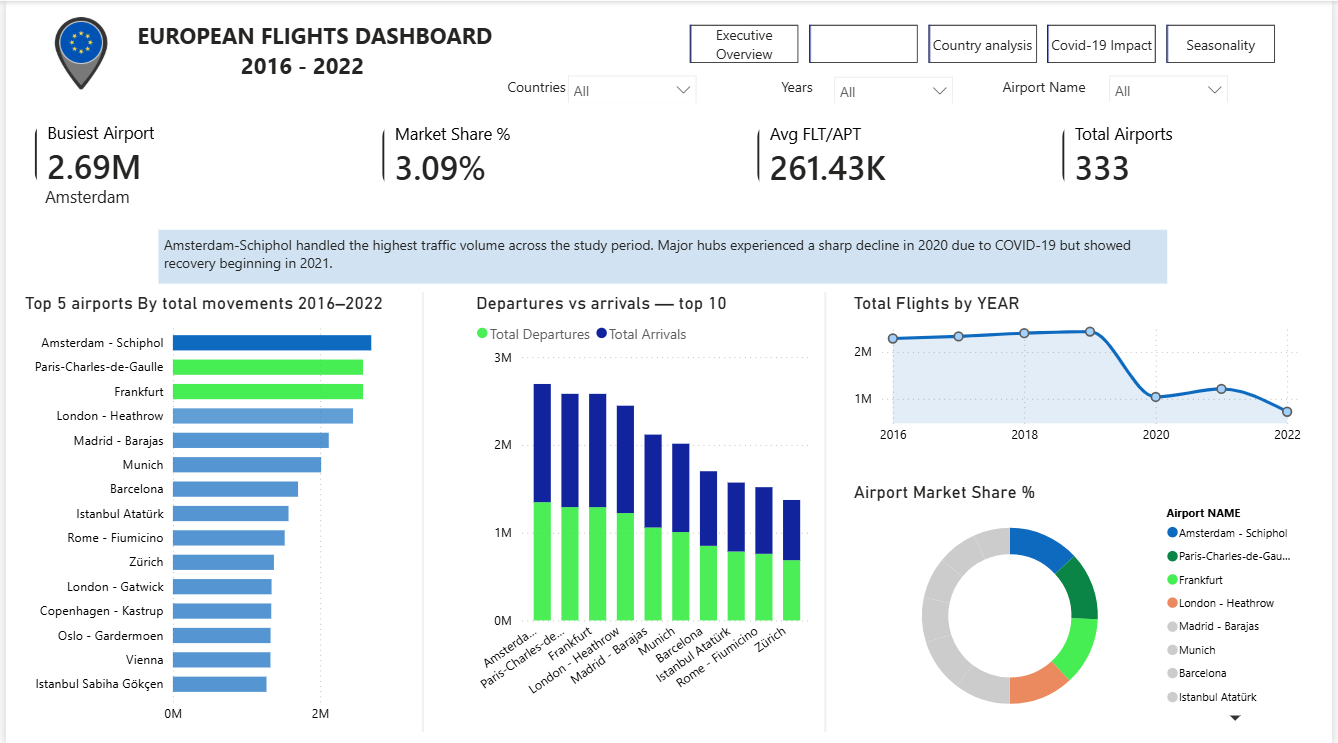

This screenshot's page, from the dashboard's own definition file:
{"tool":"powerbi","page":{"name":"Airport Performance","canvas":[1280,720],"ordinal":1},"visuals":[{"type":"cardVisual","fields":{"Data":["All Measures.Busiest Airport Flights"]},"box":[22.9,108.6,213.5,79.6],"z":0},{"type":"textbox","box":[32.6,172.5,114.6,32.6],"z":1000},{"type":"textbox","box":[122.3,13.5,360.7,92.9],"z":2000},{"type":"image","box":[23.2,13.5,99,74.6],"z":3000},{"type":"slicer","fields":{"Values":["European Flights.STATE_NAME"]},"box":[532.1,61,144.3,36.7],"z":4000},{"type":"textbox","box":[479.5,68.4,68.5,35.5],"z":5000},{"type":"slicer","fields":{"Values":["European Flights.YEAR"]},"box":[779.1,61,144.3,35.5],"z":6000},{"type":"textbox","box":[743.6,68.4,69.7,29.3],"z":7000},{"type":"clusteredBarChart","title":"Top 5 airports By total movements 2016–2022","fields":{"Category":["European Flights.APT_NAME"],"Y":["All Measures.Total Flights"]},"box":[13.3,281.1,375.2,424.7],"z":8000},{"type":"columnChart","title":"Departures vs arrivals — top 10","fields":{"Y":["All Measures.Total Departures","All Measures.Total Arrivals"],"Category":["European Flights.APT_NAME"]},"box":[448.8,281.1,334.2,424.7],"z":9000},{"type":"cardVisual","fields":{"Data":["All Measures.Airport Share %"]},"box":[358.3,109.8,212.3,79.6],"z":10000},{"type":"cardVisual","fields":{"Data":["All Measures.Avg FLT/APT"]},"box":[720.2,109.8,212.3,79.6],"z":11000},{"type":"cardVisual","fields":{"Data":["All Measures.Total Airports"]},"box":[1014.6,109.8,212.3,79.6],"z":12000},{"type":"slicer","fields":{"Values":["European Flights.YEAR"]},"box":[789,62.8,134.5,35.7],"z":13000},{"type":"slicer","fields":{"Values":["European Flights.APT_ICAO"]},"box":[1053.9,61.5,134.5,35.7],"z":14000},{"type":"textbox","box":[956.4,68.3,97.4,35.7],"z":15000},{"type":"lineChart","fields":{"Y":["All Measures.Total Flights"],"Category":["European Flights.YEAR"]},"box":[813.1,281.1,441.6,155.6],"z":16000},{"type":"textbox","box":[147.2,220.8,973.6,51.9],"z":17000},{"type":"shape","box":[380,281.1,44.6,424.7],"z":18000},{"type":"shape","box":[768.5,281.1,44.6,424.7],"z":19000},{"type":"donutChart","title":"Airport Market Share %","fields":{"Category":["European Flights.APT_NAME"],"Y":["All Measures.Total Flights"]},"box":[813.7,463.8,441.9,241.5],"z":20000},{"type":"actionButton","box":[658.7,23.3,140,39.8],"z":21000},{"type":"actionButton","box":[798.6,20.6,140,39.8],"z":22000},{"type":"actionButton","box":[946.8,20.6,140,39.8],"z":23000},{"type":"actionButton","box":[1086.8,20.6,140,39.8],"z":24000},{"type":"pageNavigator","box":[659.9,22.9,567,37.4],"z":25000},{"type":"actionButton","box":[658.7,22.9,106.2,39.8],"z":26000},{"type":"actionButton","box":[778.2,20.5,103.8,39.8],"z":27000},{"type":"actionButton","box":[956.8,30.6,140,39.8],"z":28000},{"type":"actionButton","box":[1096.8,30.6,140,39.8],"z":29000},{"type":"actionButton","box":[891.6,22.9,103.8,39.8],"z":30000},{"type":"actionButton","box":[1002.6,20.5,103.8,39.8],"z":31000},{"type":"actionButton","box":[1120.8,20.5,103.8,39.8],"z":32000}]}

Visuals, with their boxes in screenshot pixels (x1, y1, x2, y2), scaled from the page's 1280x720 canvas onto the 1338x743 screenshot:
cardVisual - All Measures.Busiest Airport Flights: [left=24, top=112, right=247, bottom=194]
textbox: [left=34, top=178, right=154, bottom=212]
textbox: [left=128, top=14, right=505, bottom=110]
image: [left=24, top=14, right=128, bottom=91]
slicer - European Flights.STATE_NAME: [left=556, top=63, right=707, bottom=101]
textbox: [left=501, top=71, right=573, bottom=107]
slicer - European Flights.YEAR: [left=814, top=63, right=965, bottom=100]
textbox: [left=777, top=71, right=850, bottom=101]
"Top 5 airports By total movements 2016–2022" clusteredBarChart: [left=14, top=290, right=406, bottom=728]
"Departures vs arrivals — top 10" columnChart: [left=469, top=290, right=818, bottom=728]
cardVisual - All Measures.Airport Share %: [left=375, top=113, right=596, bottom=195]
cardVisual - All Measures.Avg FLT/APT: [left=753, top=113, right=975, bottom=195]
cardVisual - All Measures.Total Airports: [left=1061, top=113, right=1282, bottom=195]
slicer - European Flights.YEAR: [left=825, top=65, right=965, bottom=102]
slicer - European Flights.APT_ICAO: [left=1102, top=63, right=1242, bottom=100]
textbox: [left=1000, top=70, right=1102, bottom=107]
lineChart - All Measures.Total Flights x European Flights.YEAR: [left=850, top=290, right=1312, bottom=451]
textbox: [left=154, top=228, right=1172, bottom=281]
shape: [left=397, top=290, right=444, bottom=728]
shape: [left=803, top=290, right=850, bottom=728]
"Airport Market Share %" donutChart: [left=851, top=479, right=1312, bottom=728]
actionButton: [left=689, top=24, right=835, bottom=65]
actionButton: [left=835, top=21, right=981, bottom=62]
actionButton: [left=990, top=21, right=1136, bottom=62]
actionButton: [left=1136, top=21, right=1282, bottom=62]
pageNavigator: [left=690, top=24, right=1282, bottom=62]
actionButton: [left=689, top=24, right=800, bottom=65]
actionButton: [left=813, top=21, right=922, bottom=62]
actionButton: [left=1000, top=32, right=1146, bottom=73]
actionButton: [left=1146, top=32, right=1293, bottom=73]
actionButton: [left=932, top=24, right=1041, bottom=65]
actionButton: [left=1048, top=21, right=1157, bottom=62]
actionButton: [left=1172, top=21, right=1280, bottom=62]
